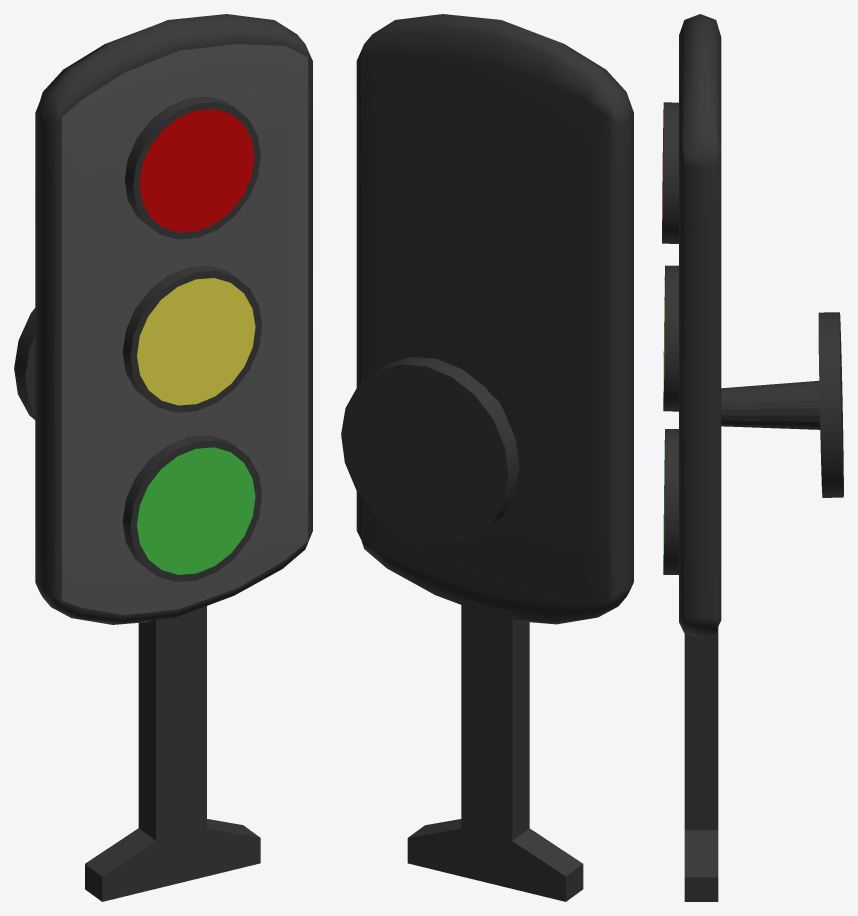
The model's file is traffic_light.fbx.
3 views of the same model, side by side, from view 1: azimuth 30°, elevation 25°; view 2: azimuth 150°, elevation 25°; view 3: azimuth 270°, elevation 25° (orthographic). The views are drawn at different scales.
Visible parts, largest first — view 1: pCylinder14; view 2: pCylinder14; view 3: pCylinder14.
Boxes of the visible parts, x1,y1,x2,y2 form: pCylinder14: (14, 14, 312, 901); pCylinder14: (341, 14, 633, 901); pCylinder14: (662, 14, 843, 901).
Size of the model in its own units: 1.87 by 5.77 by 1.15.
